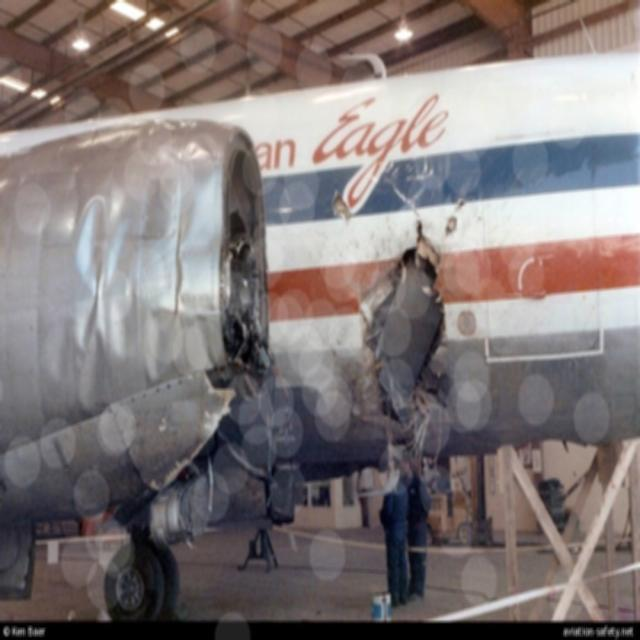dent: (84, 276, 139, 357), (77, 195, 111, 291), (80, 333, 114, 408), (141, 309, 175, 381), (45, 322, 77, 389)
